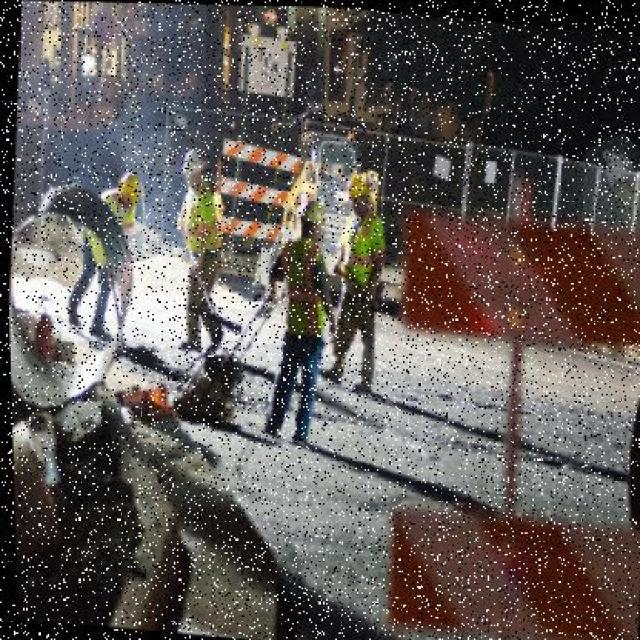helmet: (177, 144, 211, 192), (114, 167, 144, 215), (339, 173, 373, 212)
vest: (269, 231, 335, 346), (171, 189, 228, 270), (337, 212, 393, 288)
